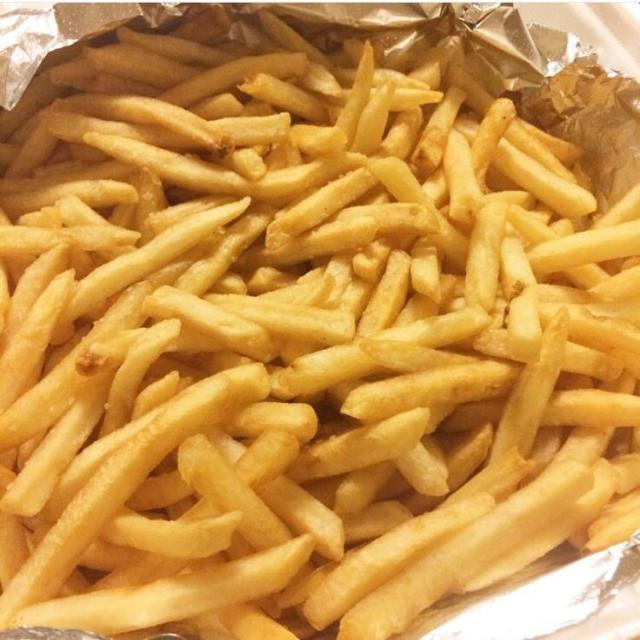potato fries: (0, 8, 639, 639)
